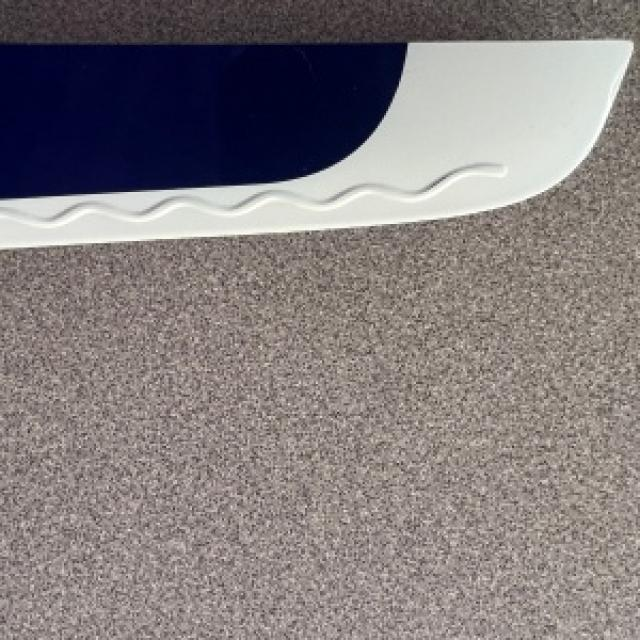healthy: (0, 38, 631, 243)
